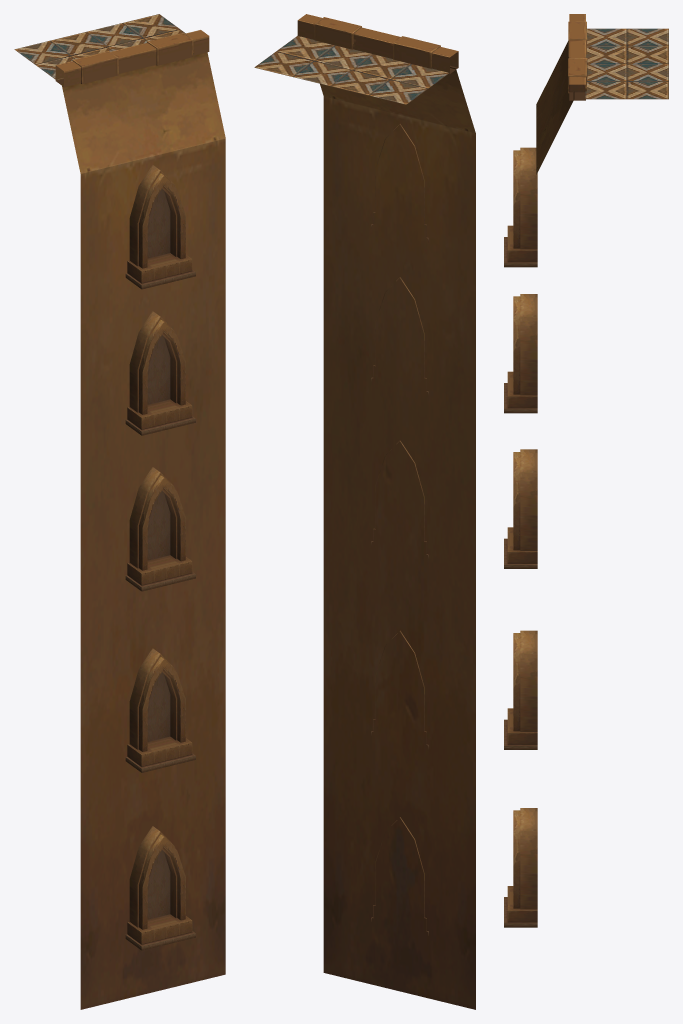
The model's file is shakian_cliff_base24_wallunder01_05.FBX.
The picture shows the model from 3 angles, left to right: view 1: azimuth 30°, elevation 25°; view 2: azimuth 150°, elevation 25°; view 3: azimuth 270°, elevation 25°; orthographic projection. The views are drawn at different scales.
Parts seen in each view (by area): view 1: shakian_cliff_base24_wallunder01_05; view 2: shakian_cliff_base24_wallunder01_05; view 3: shakian_cliff_base24_wallunder01_05.
Boxes of the visible parts, <box> form: shakian_cliff_base24_wallunder01_05: <box>14,14,225,1009</box>; shakian_cliff_base24_wallunder01_05: <box>254,14,475,1009</box>; shakian_cliff_base24_wallunder01_05: <box>504,14,668,927</box>.
Bounding box in the file's own units: 4 × 24.41 × 3.94.
